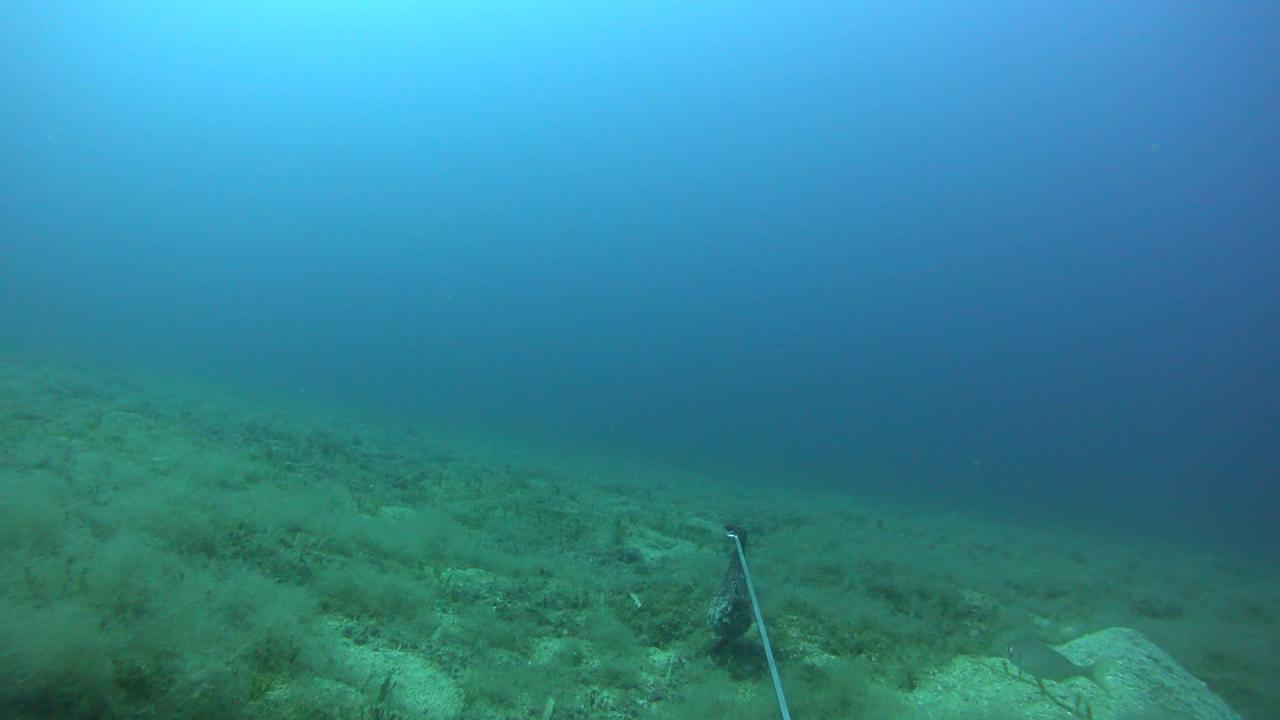pagellus: (1002, 636, 1110, 693)
